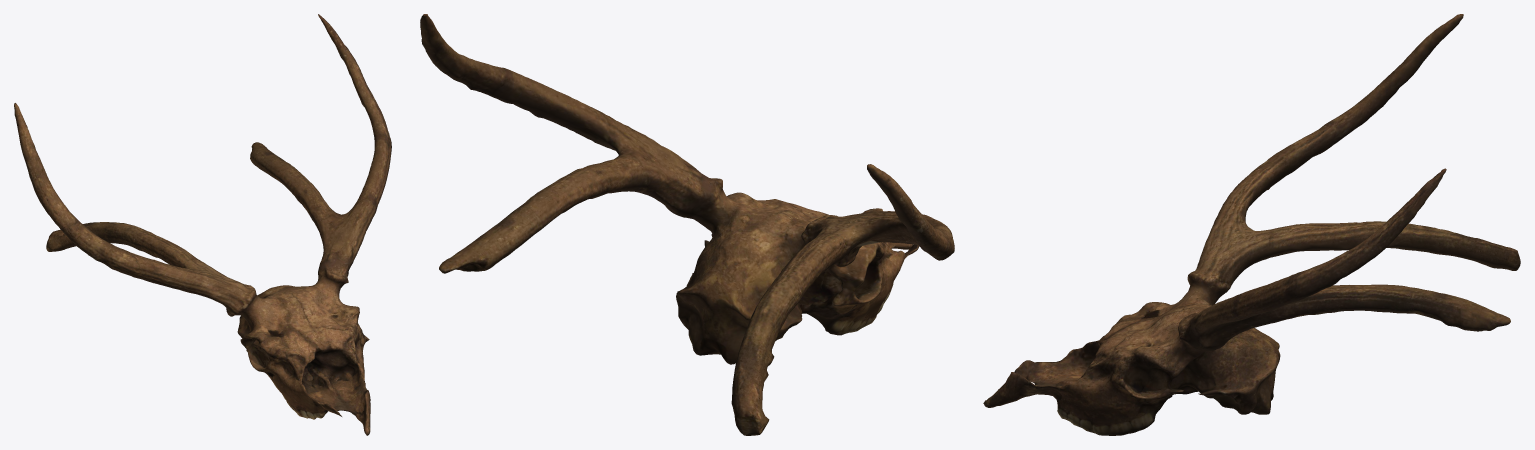
3 views of the same model, side by side, from view 1: azimuth 30°, elevation 25°; view 2: azimuth 150°, elevation 25°; view 3: azimuth 270°, elevation 25° (orthographic). The views are drawn at different scales.
Visible parts, largest first — view 1: Hapleidoceros_LP.004; view 2: Hapleidoceros_LP.004; view 3: Hapleidoceros_LP.004.
Part boxes in pixels (<box>): Hapleidoceros_LP.004: <box>14,14,391,435</box>; Hapleidoceros_LP.004: <box>420,14,954,435</box>; Hapleidoceros_LP.004: <box>983,14,1520,435</box>.
Size of the model in its own units: 0.4524 by 0.3502 by 0.513.
1 material, 1 textured.
